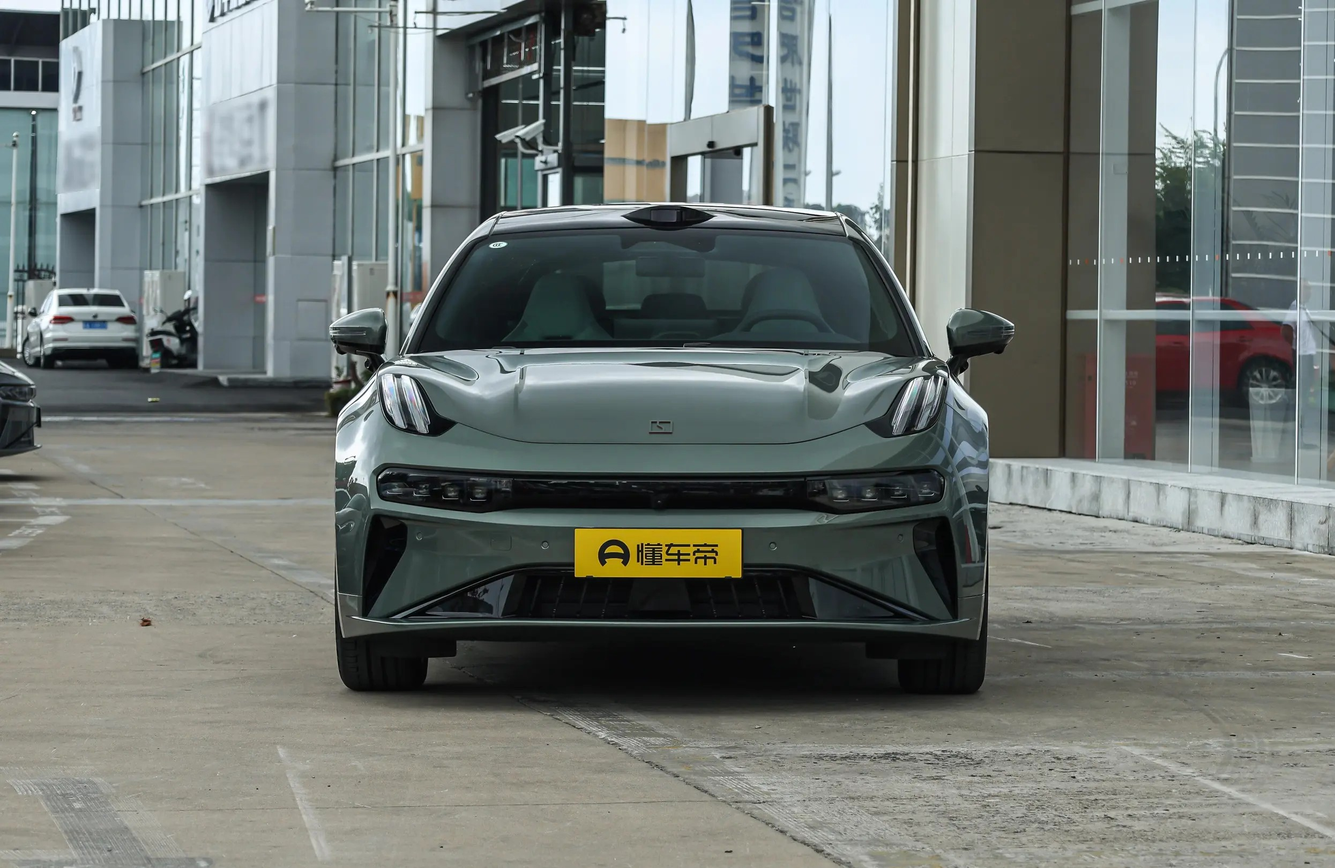ZEEKR: (649, 420, 673, 432)
